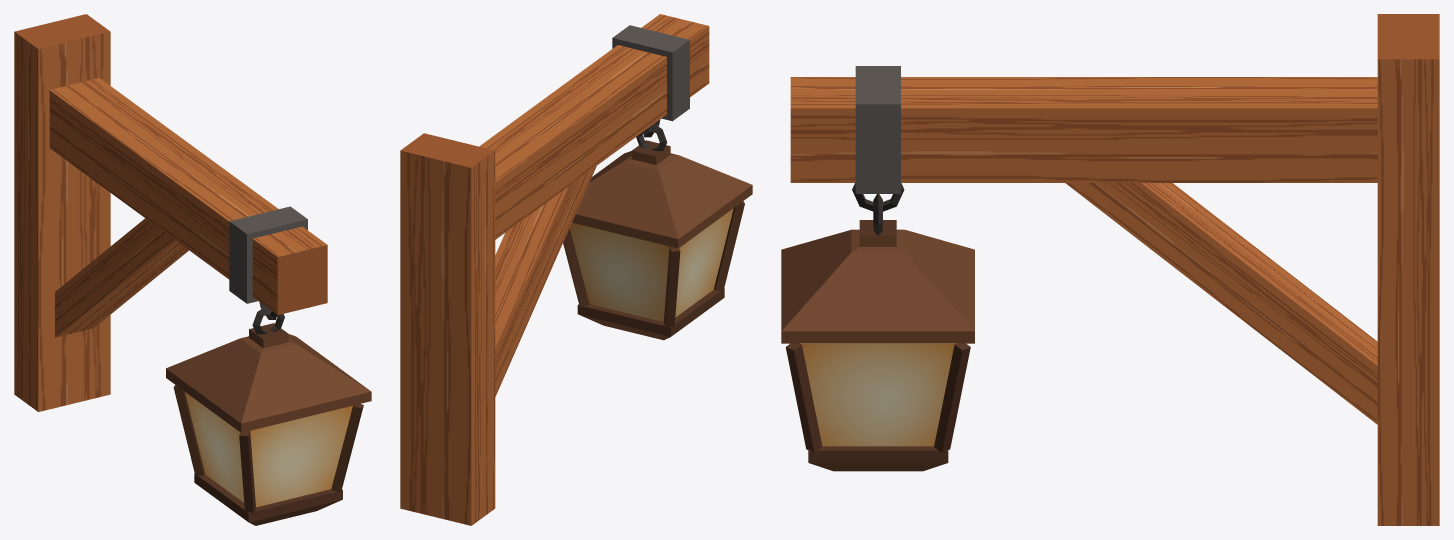
File: FMS_Deco_Lantern_Wall.fbx
3 views of the same model, side by side, from view 1: azimuth 30°, elevation 25°; view 2: azimuth 150°, elevation 25°; view 3: azimuth 270°, elevation 25° (orthographic). The views are drawn at different scales.
Visible parts, largest first — view 1: item_decor_lantern_wall; view 2: item_decor_lantern_wall; view 3: item_decor_lantern_wall.
Boxes of the visible parts, <box> form: item_decor_lantern_wall: <box>14,14,371,525</box>; item_decor_lantern_wall: <box>400,14,752,525</box>; item_decor_lantern_wall: <box>781,14,1439,525</box>.
Size of the model in its own units: 0.188 by 0.5 by 0.639.
